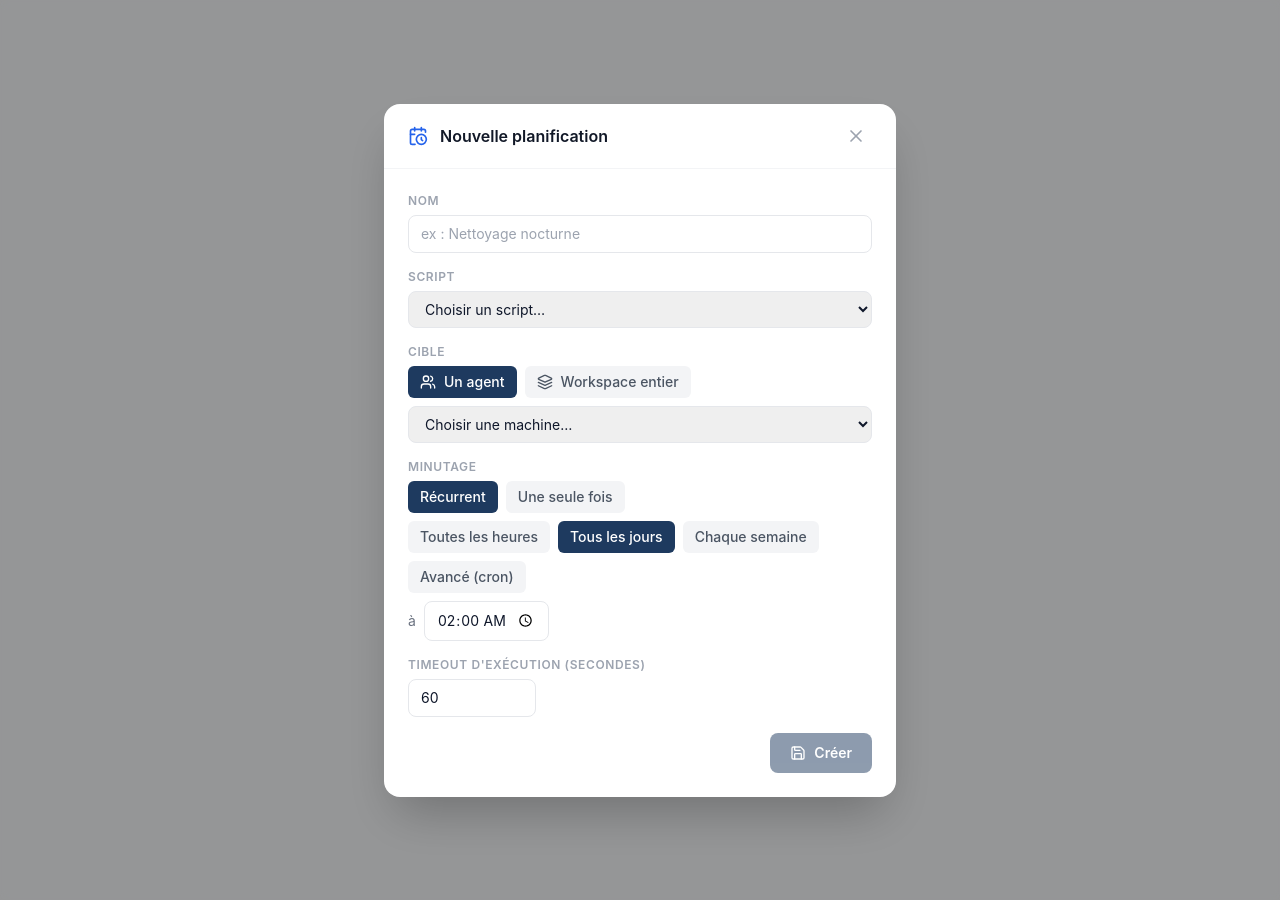
Scenario: ScheduleFormModal — création › affiche l'erreur retournée par l'API sans fermer la modale
The width and height of the screenshot is (1280, 900).
Type "Nocturne" into the field with placeholder "ex : Nettoyage nocturne". click: [640, 234]
box: x1=408 y1=214 x2=872 y2=252
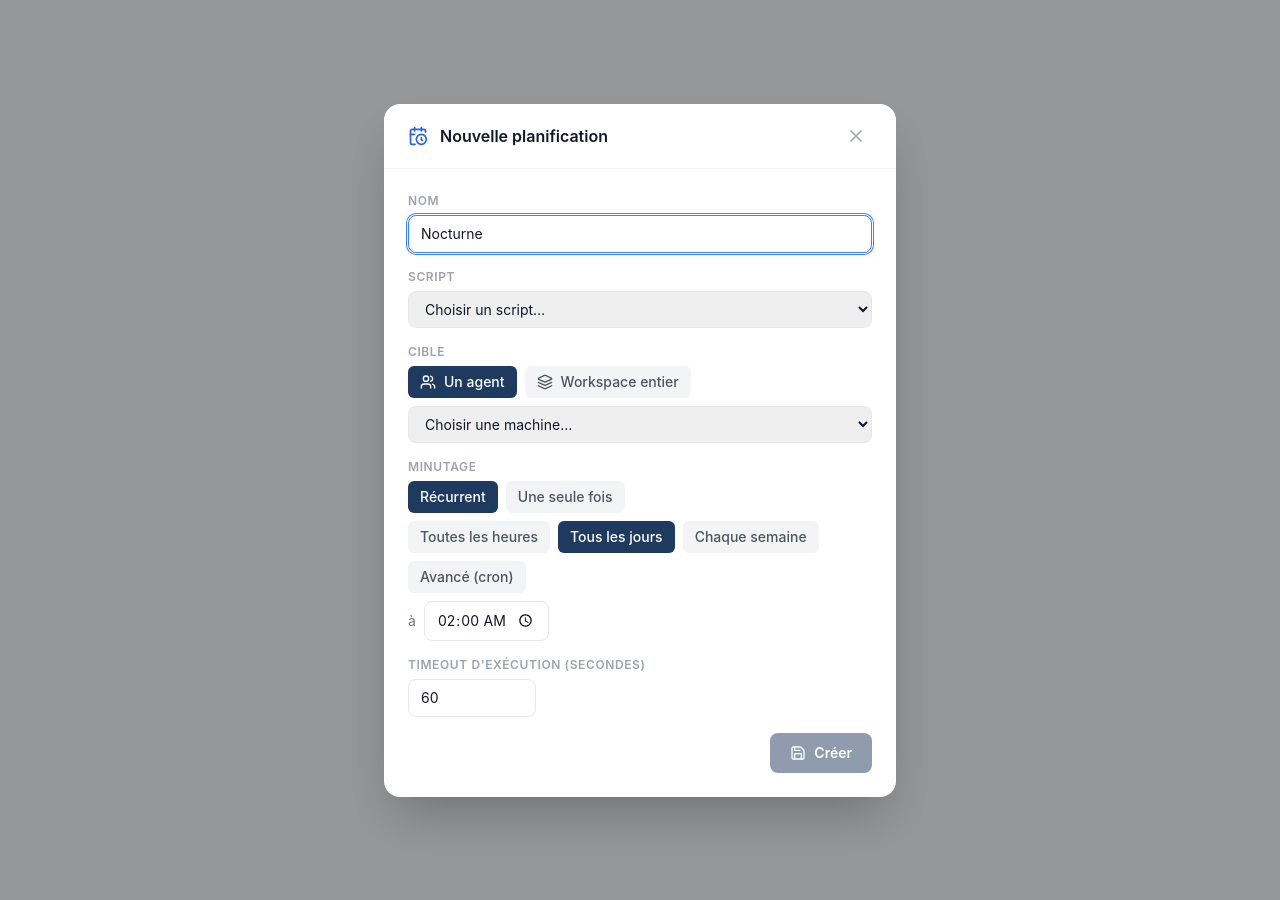
Select "Nettoyage (bash)" in the dropdown below "Script". click: [640, 309]
box: x1=408 y1=290 x2=872 y2=328
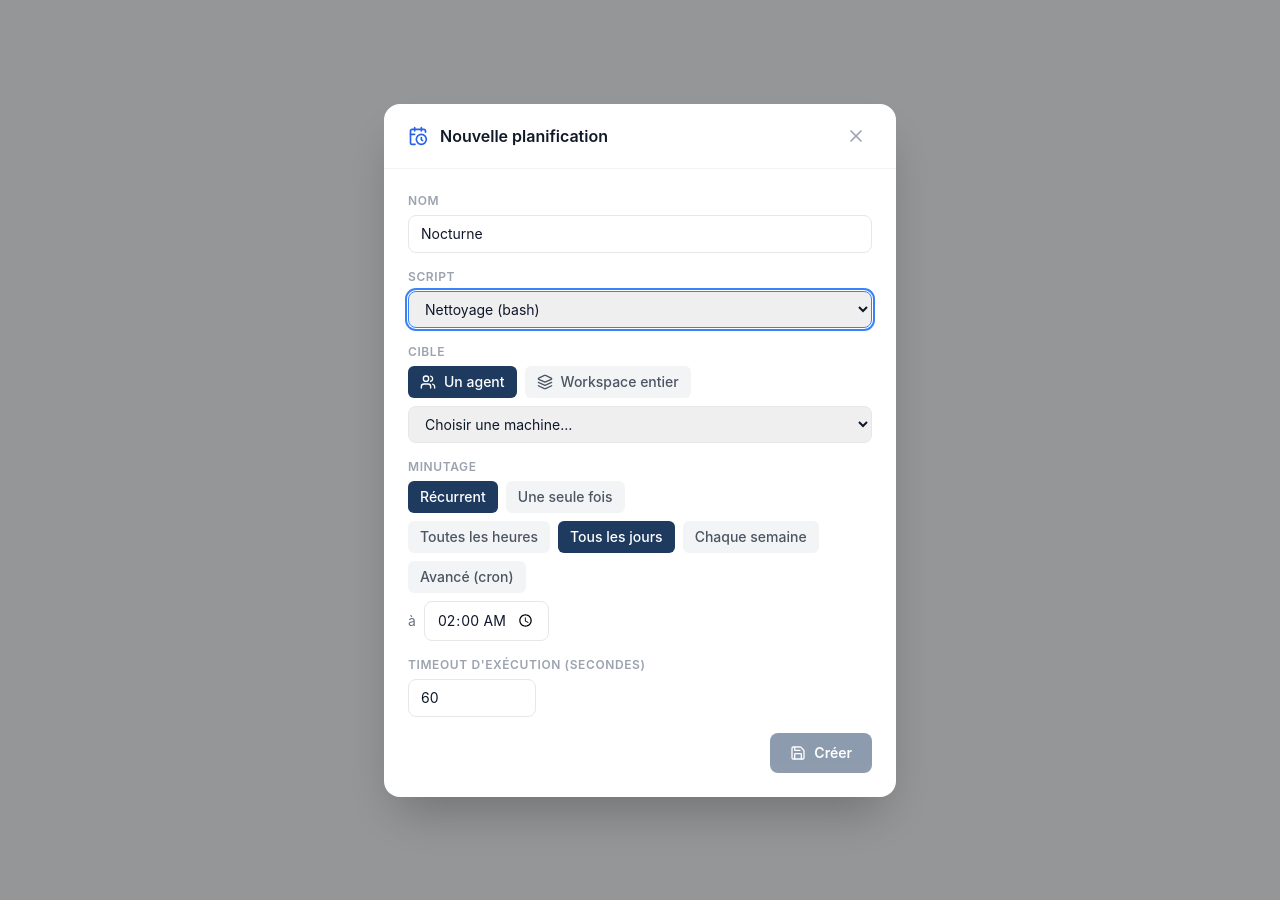
Select "PARIS-01" in the dropdown below "Cible". click: [640, 424]
box: x1=408 y1=406 x2=872 y2=442
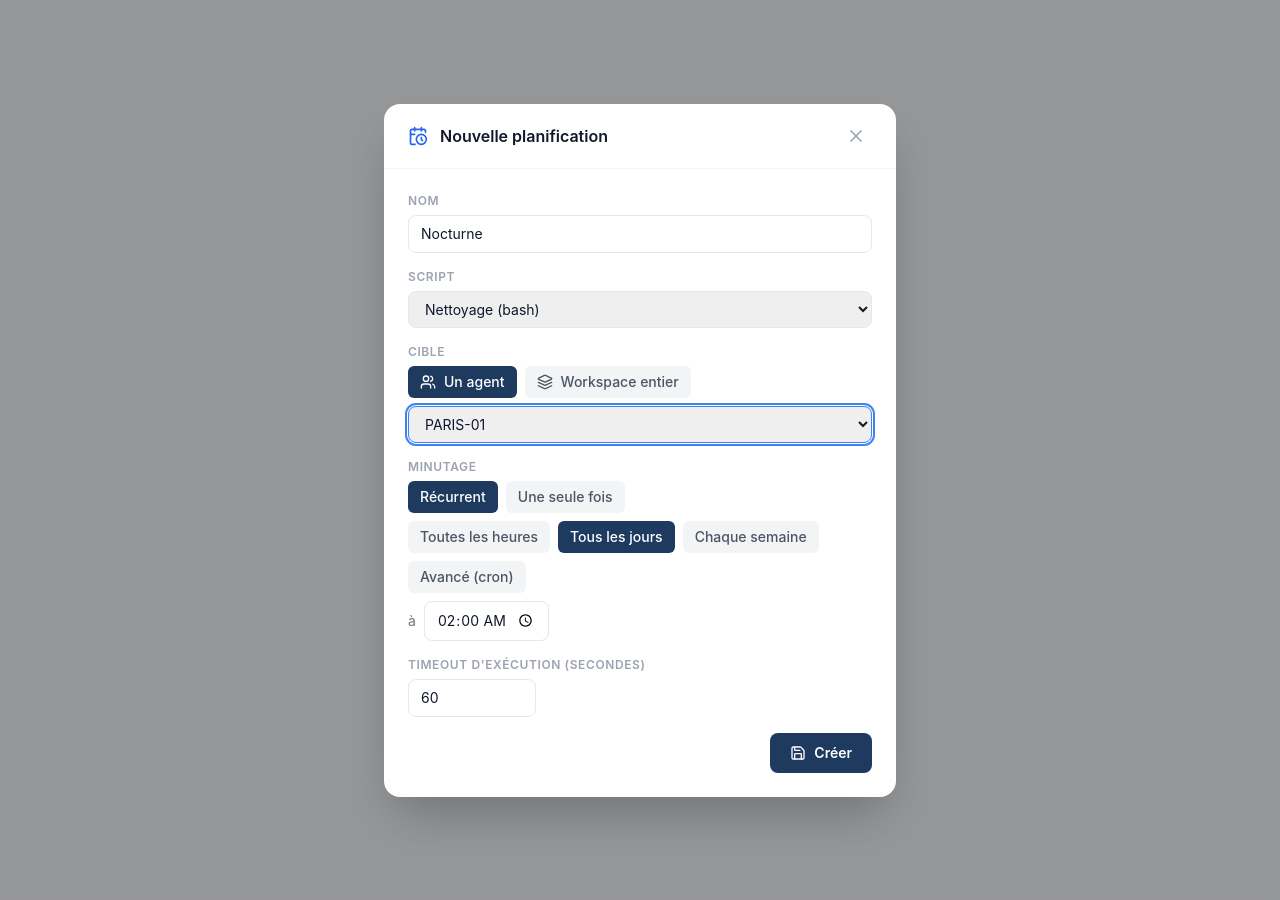
Click the button "Créer". click: [821, 752]
box: x1=770 y1=732 x2=872 y2=772
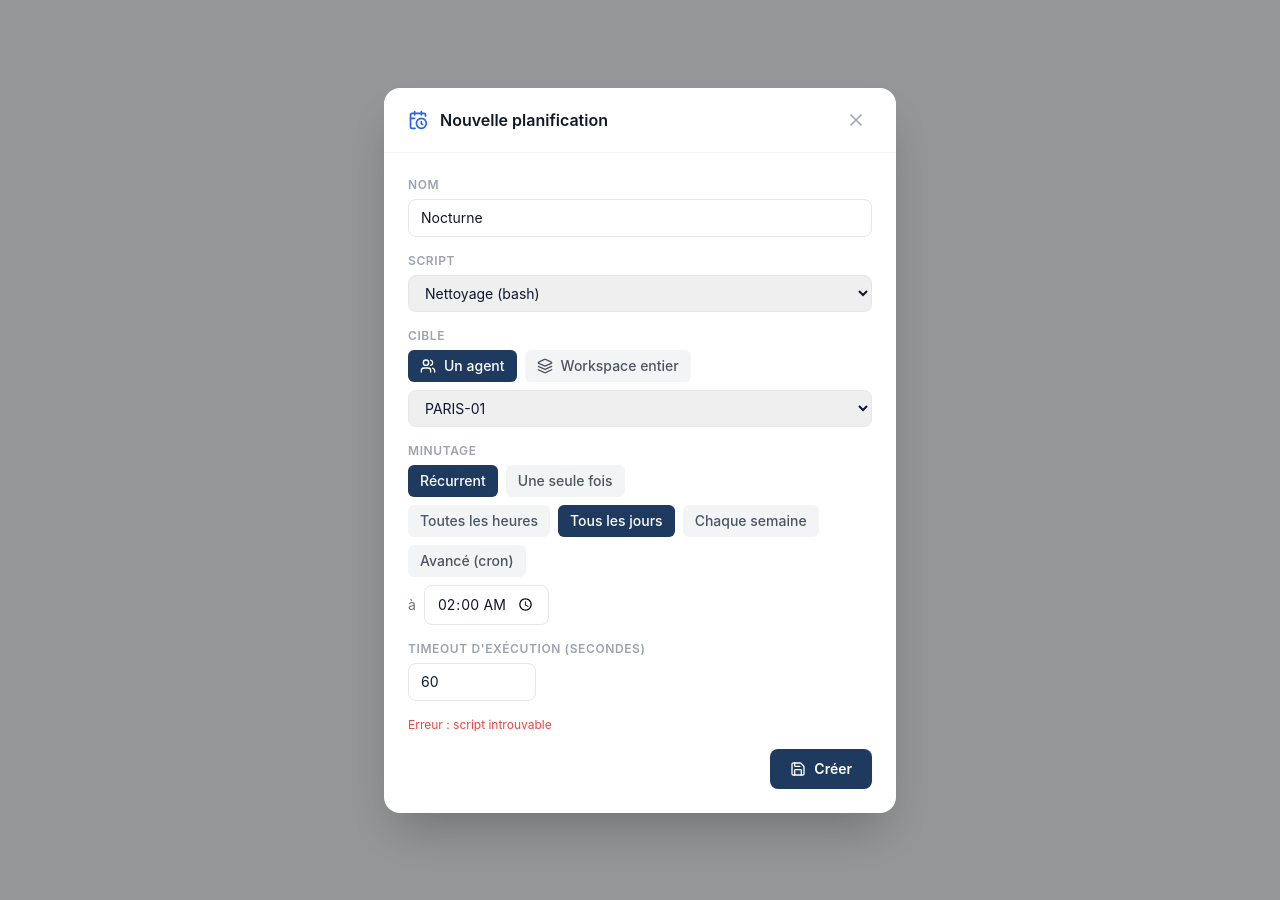
Check: the text "Erreur : script introuvable" is shown, box x1=408 y1=716 x2=552 y2=732
